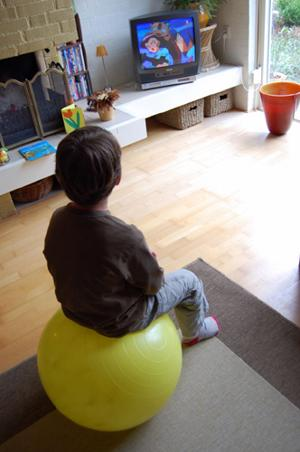person: (43, 127, 221, 349)
